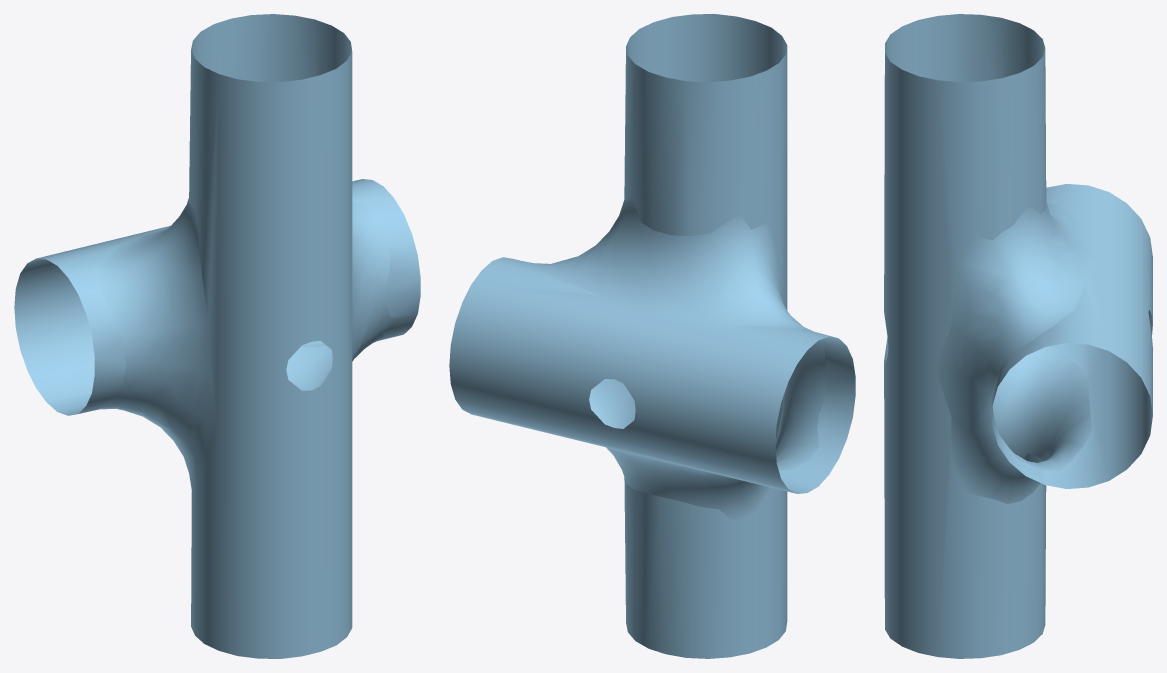
File: AnklePitchLink.obj
3 renders of one model, left to right at view 1: azimuth 30°, elevation 25°; view 2: azimuth 150°, elevation 25°; view 3: azimuth 270°, elevation 25°, orthographic.
Parts seen in each view (by area): view 1: BWP_0249_U_Joint_Block; view 2: BWP_0249_U_Joint_Block; view 3: BWP_0249_U_Joint_Block.
Boxes of the visible parts, bbox=[...] form: BWP_0249_U_Joint_Block: bbox=[14, 14, 420, 658]; BWP_0249_U_Joint_Block: bbox=[449, 14, 855, 658]; BWP_0249_U_Joint_Block: bbox=[884, 14, 1152, 658].
Size of the model in its own units: 0.042 by 0.071 by 0.03.
